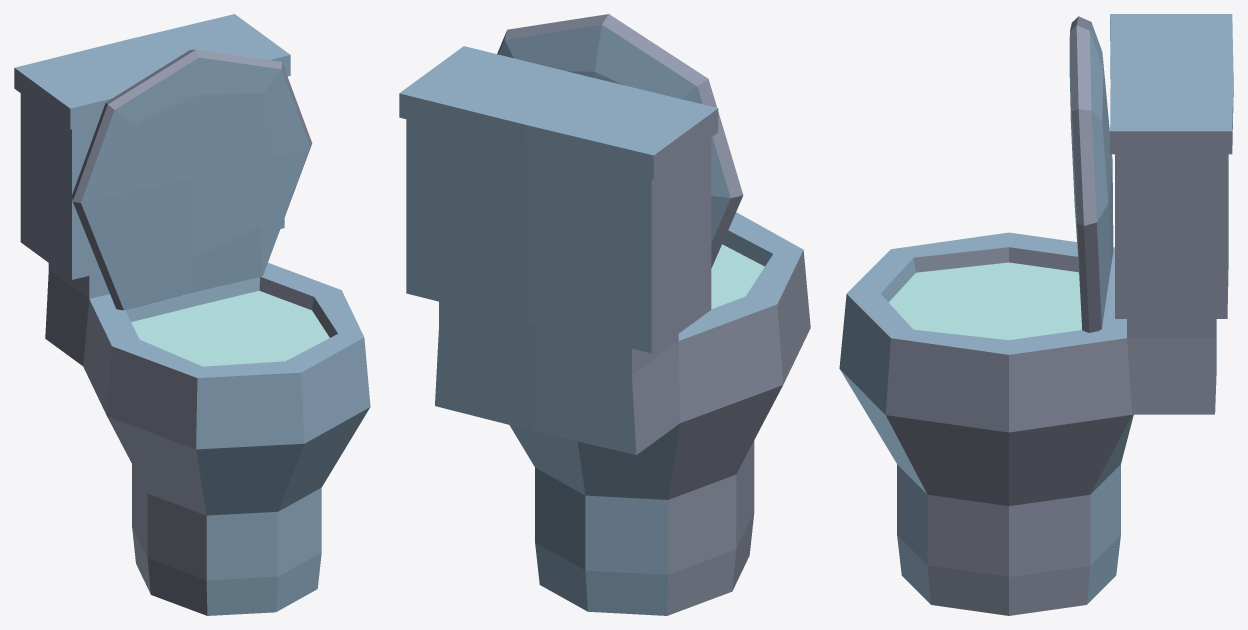
File: Toilet .fbx
3 renders of one model, left to right at view 1: azimuth 30°, elevation 25°; view 2: azimuth 150°, elevation 25°; view 3: azimuth 270°, elevation 25°, orthographic. The views are drawn at different scales.
Parts seen in each view (by area): view 1: Toilet; view 2: Toilet; view 3: Toilet.
Part boxes in pixels (box(x1,y1,x2,y2)): Toilet: box(14, 14, 370, 615); Toilet: box(399, 14, 810, 615); Toilet: box(839, 14, 1233, 615).
Bounding box in the file's own units: 94.98 × 191 × 124.
